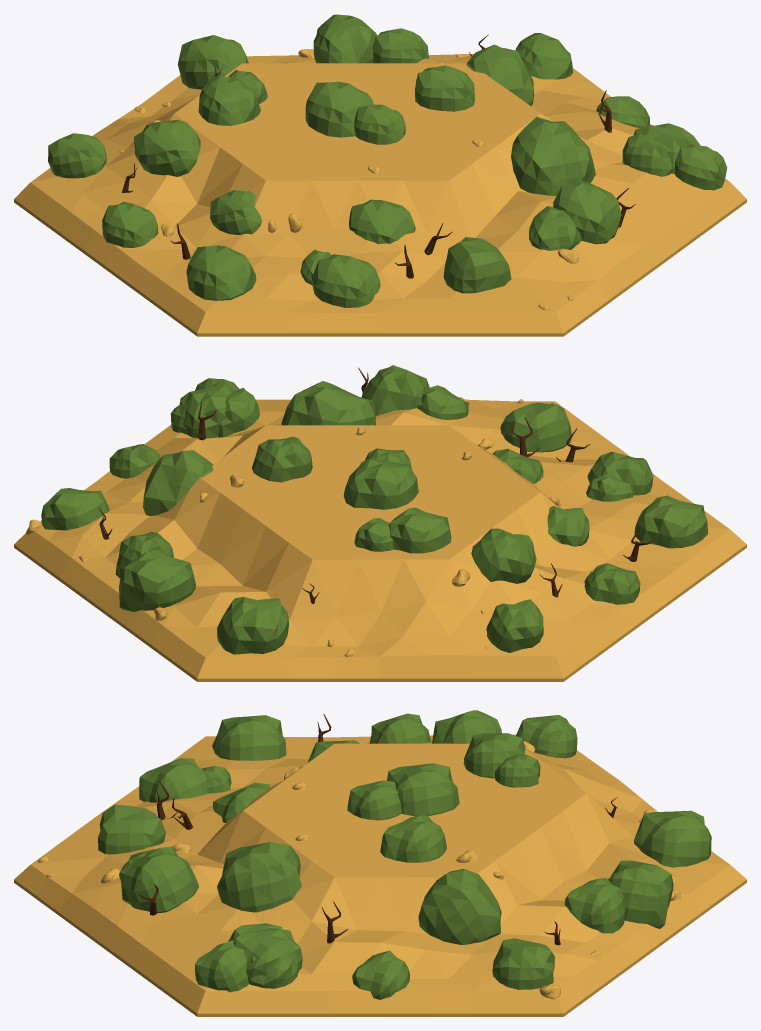
File: shrublands.glb
3 renders of one model, top to bottom at view 1: azimuth 30°, elevation 25°; view 2: azimuth 150°, elevation 25°; view 3: azimuth 270°, elevation 25°, orthographic.
Parts seen in each view (by area): view 1: land, big_details; view 2: land, big_details; view 3: land, big_details.
Boxes of the visible parts, left/top/right/bottom form: land: left=14, top=49, right=746, bottom=336; big_details: left=48, top=14, right=727, bottom=307; land: left=14, top=397, right=746, bottom=681; big_details: left=41, top=365, right=708, bottom=654; land: left=14, top=734, right=746, bottom=1016; big_details: left=98, top=710, right=711, bottom=999.
Bounding box in the file's own units: 1.73 × 0.351 × 2.
